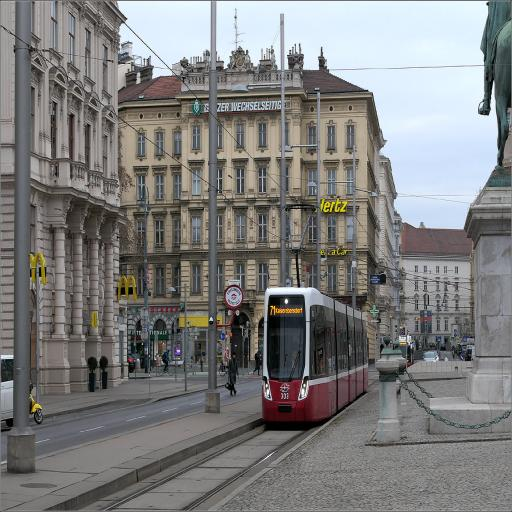Flexity: (262, 285, 369, 429)
